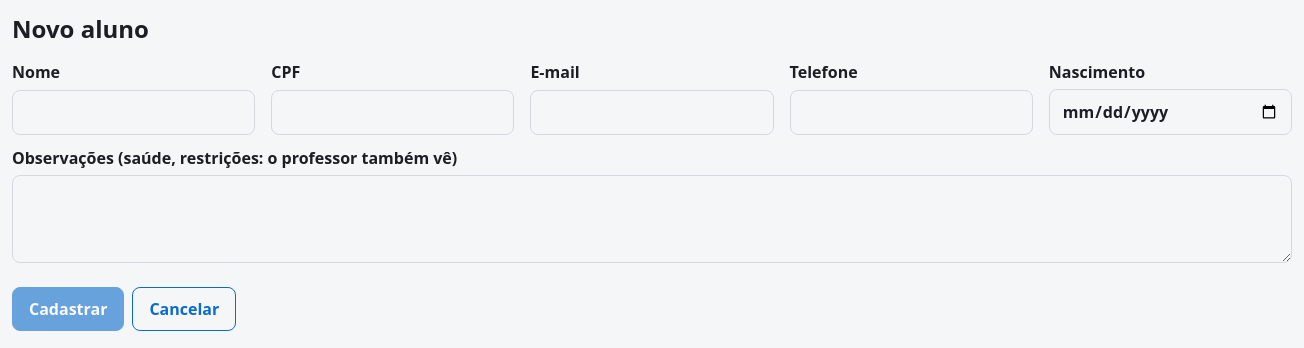
novo aluno › sem a data de nascimento não envia (ADR 0048)
In the field labelled "Nome": x=134, y=112 [12,90,255,135], type "Carla"
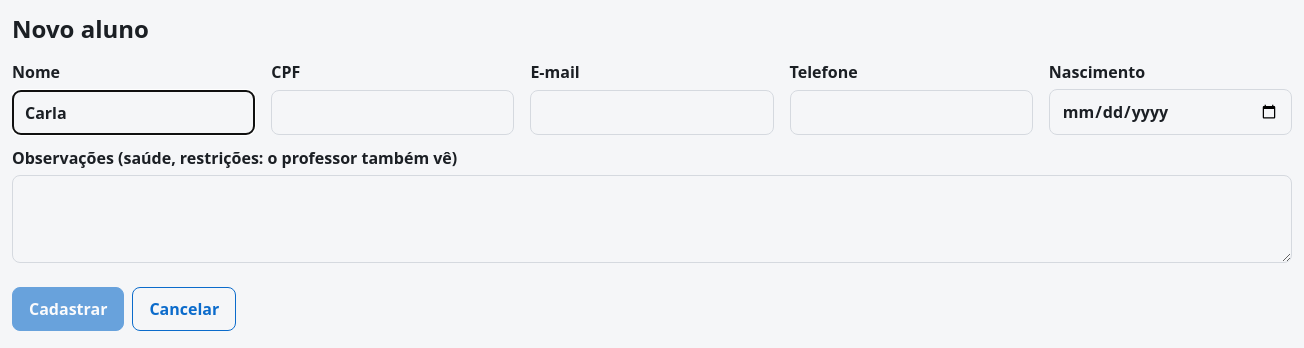
In the field labelled "CPF": x=393, y=112 [271,90,514,135], type "529.982.247-25"
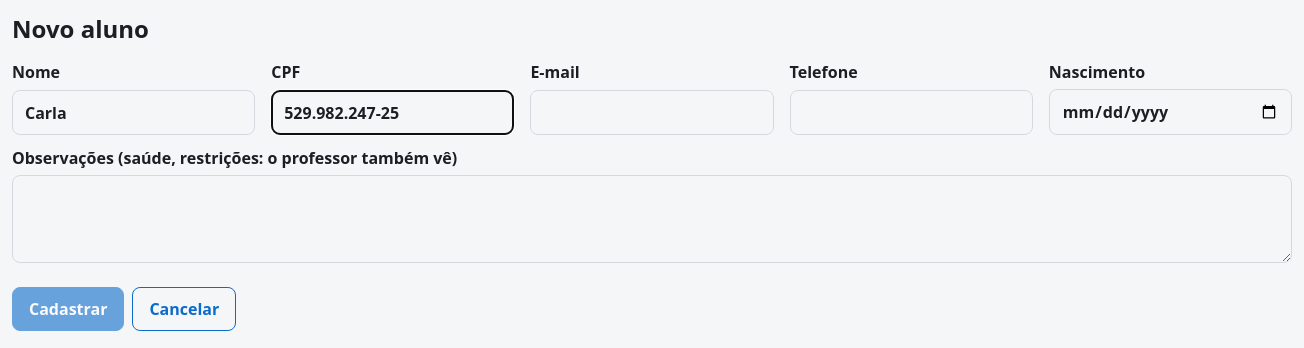
Check: the button "Cadastrar" is disabled, box [12,287,124,331]
In the date field labelled "Nascimento": x=1170, y=112 [1049,89,1292,135], type "1990-05-02"
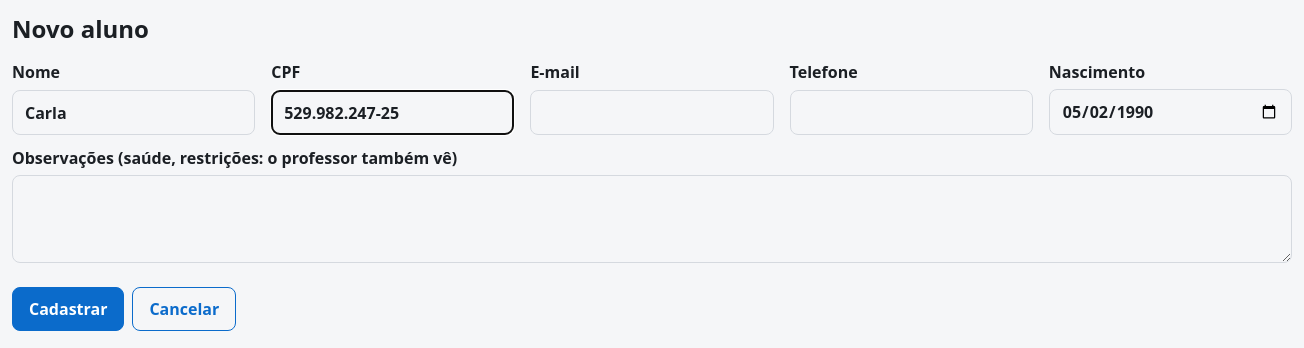
Check: the button "Cadastrar" is enabled, box [12,287,124,331]
